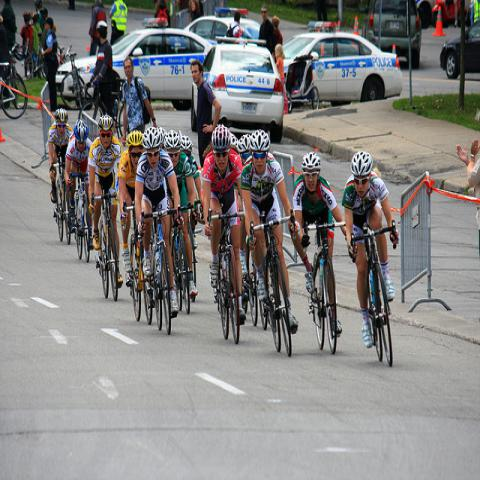car: (56, 27, 213, 114), (191, 43, 284, 143), (281, 30, 403, 100), (368, 2, 422, 76), (437, 21, 480, 77), (184, 16, 262, 45)
